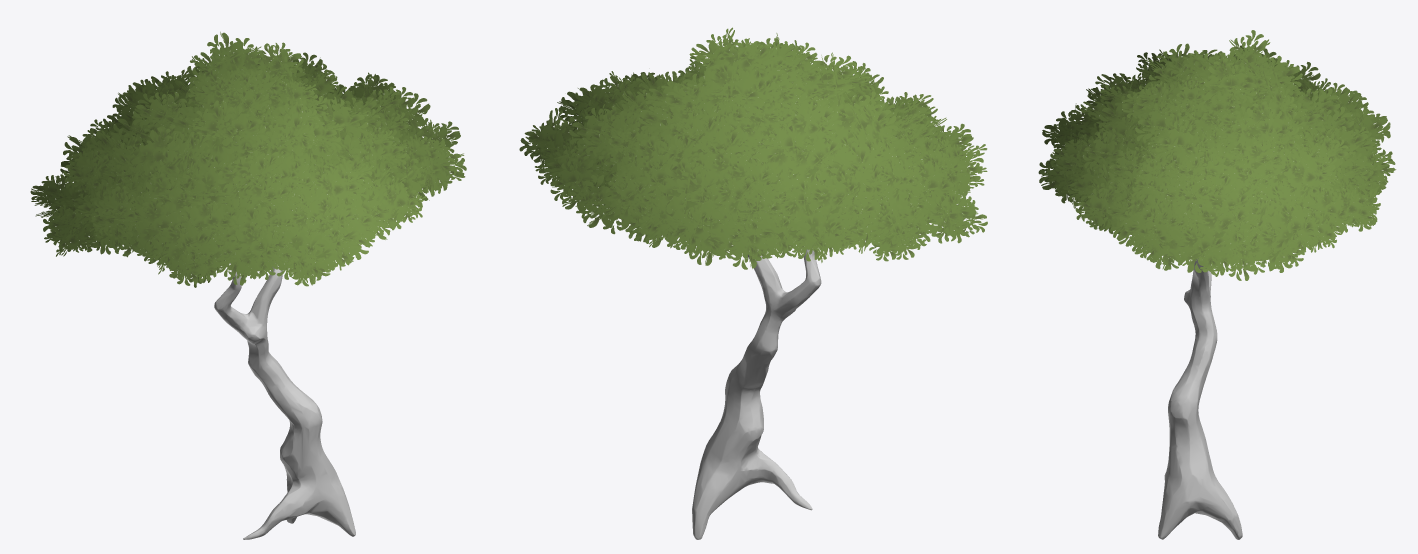
The model's file is SmallTree.fbx.
3 views of the same model, side by side, from view 1: azimuth 30°, elevation 25°; view 2: azimuth 150°, elevation 25°; view 3: azimuth 270°, elevation 25° (orthographic). The views are drawn at different scales.
Visible parts, largest first — view 1: SmallTreeLOD0; view 2: SmallTreeLOD0; view 3: SmallTreeLOD0.
Part boxes in pixels (left/top/right/bottom): SmallTreeLOD0: left=30, top=31, right=466, bottom=539; SmallTreeLOD0: left=519, top=27, right=987, bottom=539; SmallTreeLOD0: left=1038, top=30, right=1396, bottom=539.
Size of what is drawn, in the model's own units: 618 by 713 by 493.
